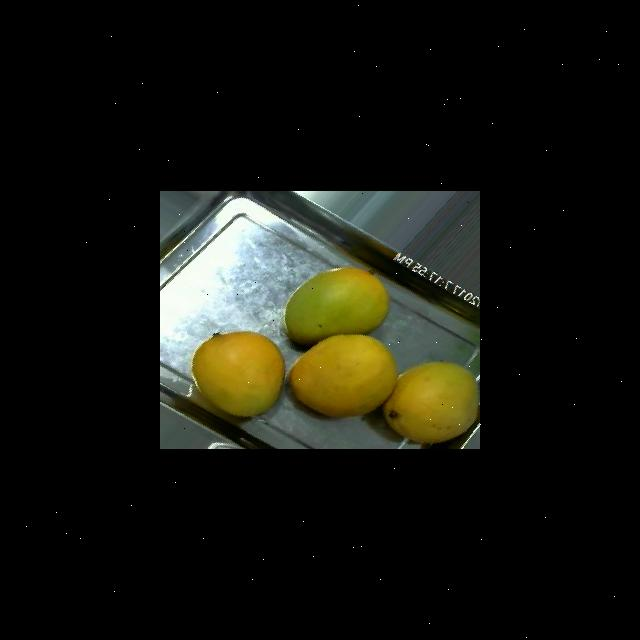Mango: (288, 333, 397, 418), (283, 265, 390, 345), (190, 330, 285, 417), (382, 360, 479, 443)
